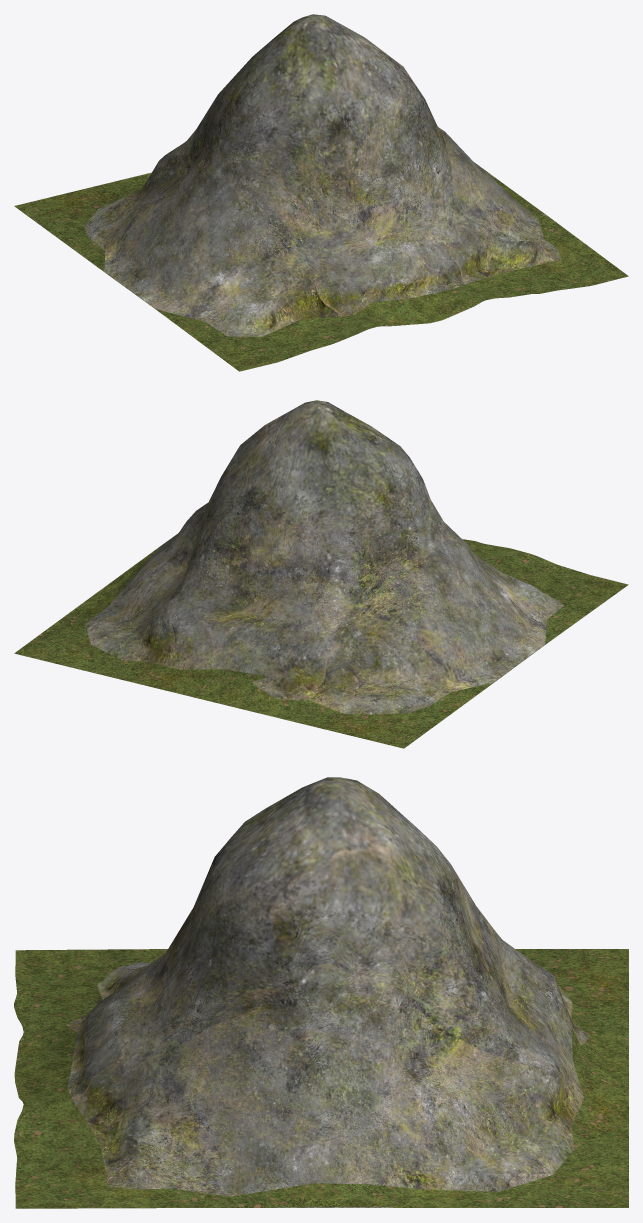
The model's file is simple_mountain.glb.
3 views of the same model, one above another, from view 1: azimuth 30°, elevation 25°; view 2: azimuth 150°, elevation 25°; view 3: azimuth 270°, elevation 25° (orthographic). The views are drawn at different scales.
Parts seen in each view (by area): view 1: Plane; view 2: Plane; view 3: Plane.
Boxes of the visible parts, left/top/right/bottom form: Plane: left=14, top=14, right=628, bottom=371; Plane: left=14, top=400, right=628, bottom=748; Plane: left=14, top=777, right=628, bottom=1208.
Bounding box in the file's own units: 12 × 6.46 × 12.04.
Materials: 1 (1 with a texture image).
